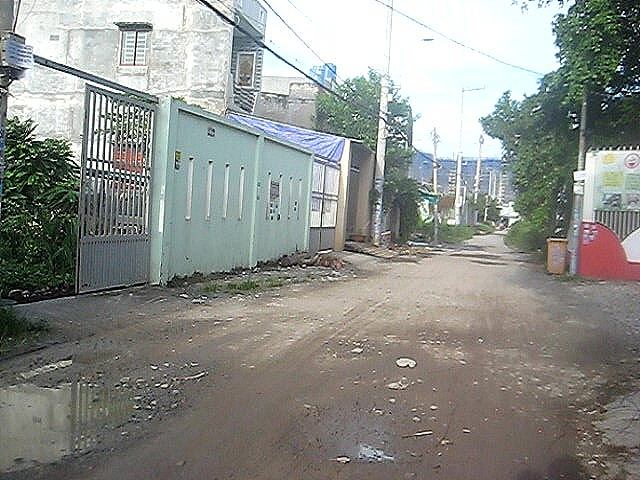hole: (1, 359, 201, 477), (298, 406, 415, 469), (325, 338, 371, 359), (447, 252, 505, 258), (469, 259, 510, 265), (463, 243, 495, 250)
